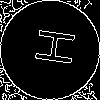H: (25, 25, 76, 68)
